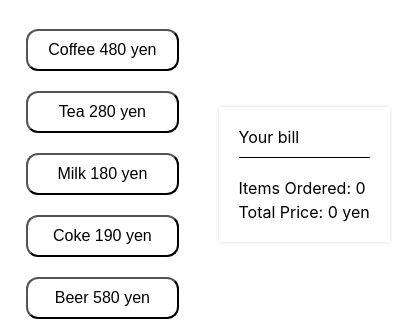
ordering coffee updates count and price
The image size is (418, 336).
Click the button "Coffee 480 yen" at (102, 50), box [26, 29, 178, 71]
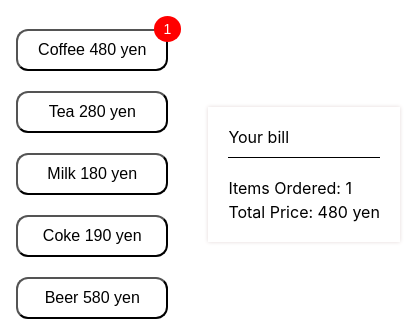
Click the button "Coffee 480 yen 1" at (92, 50), box [16, 29, 168, 71]
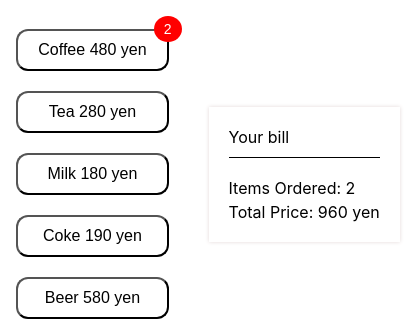
Now the text "Items Ordered: 2" is shown, box [229, 178, 355, 198]
Now the text "Total Price: 960 yen" is shown, box [229, 202, 380, 222]
Now the text "2" is shown, box [154, 16, 182, 42]
